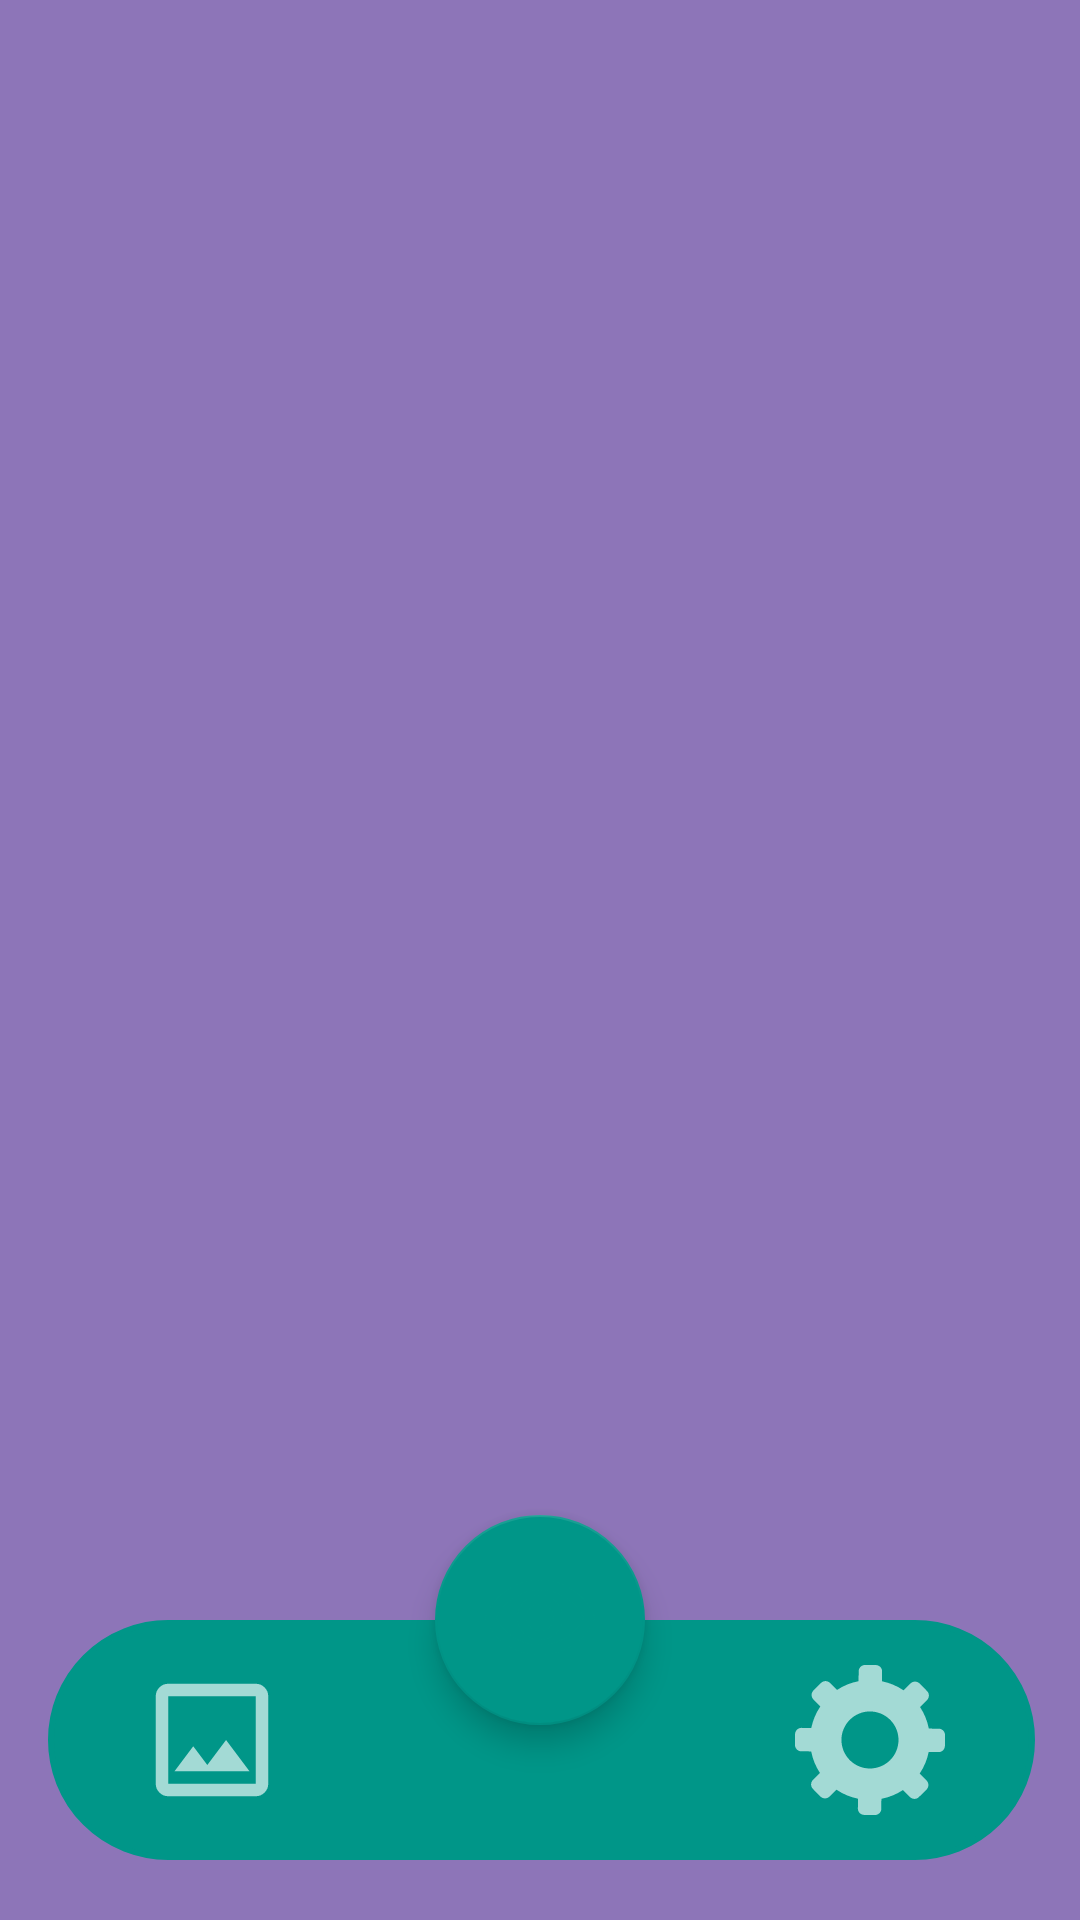

Where to tap for icons on this 1080w x 1920h app screen, as (x,y):
gallery: (212,1740)
settings: (870,1740)
